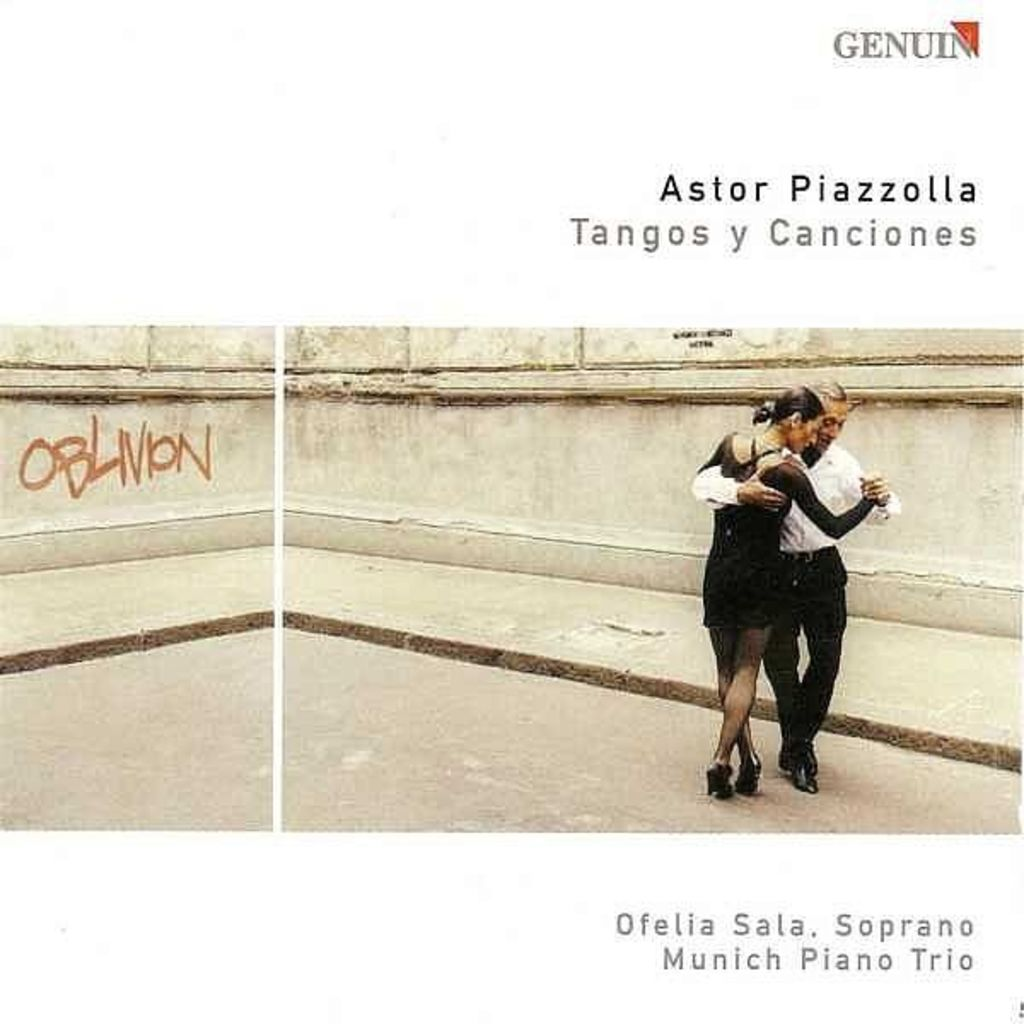Footwear: (773, 739, 826, 794), (700, 759, 736, 806), (734, 756, 765, 800)
